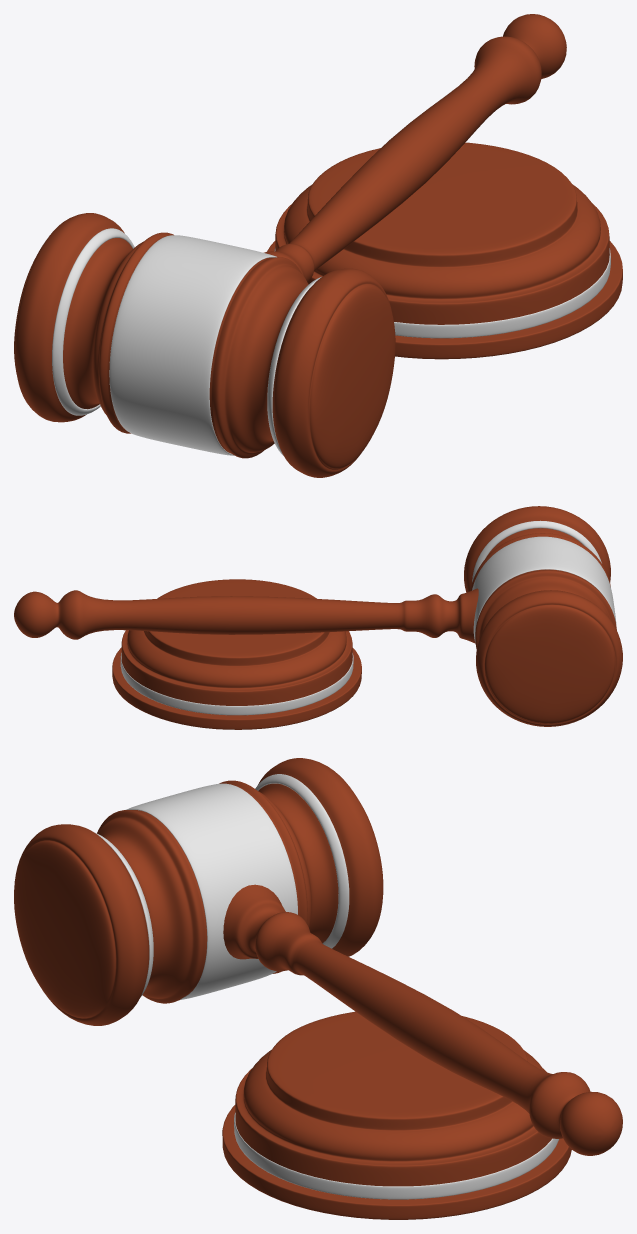
File: judges_gavel.glb
3 renders of one model, top to bottom at view 1: azimuth 30°, elevation 25°; view 2: azimuth 150°, elevation 25°; view 3: azimuth 270°, elevation 25°, orthographic. The views are drawn at different scales.
Parts seen in each view (by area): view 1: Cylinder.014_1, Cylinder.011_0, Cylinder.013_2; view 2: Cylinder.014_1, Cylinder.011_0, Cylinder.013_2; view 3: Cylinder.014_1, Cylinder.011_0, Cylinder.013_2.
Boxes of the visible parts, left/top/right/bottom form: Cylinder.014_1: left=14, top=213, right=395, bottom=477; Cylinder.011_0: left=267, top=142, right=622, bottom=359; Cylinder.013_2: left=264, top=14, right=566, bottom=282; Cylinder.014_1: left=464, top=506, right=622, bottom=726; Cylinder.011_0: left=112, top=579, right=361, bottom=729; Cylinder.013_2: left=14, top=588, right=478, bottom=643; Cylinder.014_1: left=14, top=758, right=383, bottom=1025; Cylinder.011_0: left=222, top=1011, right=571, bottom=1219; Cylinder.013_2: left=223, top=884, right=622, bottom=1155.
Size of the model in its own units: 2.58 by 0.6738 by 1.98.
